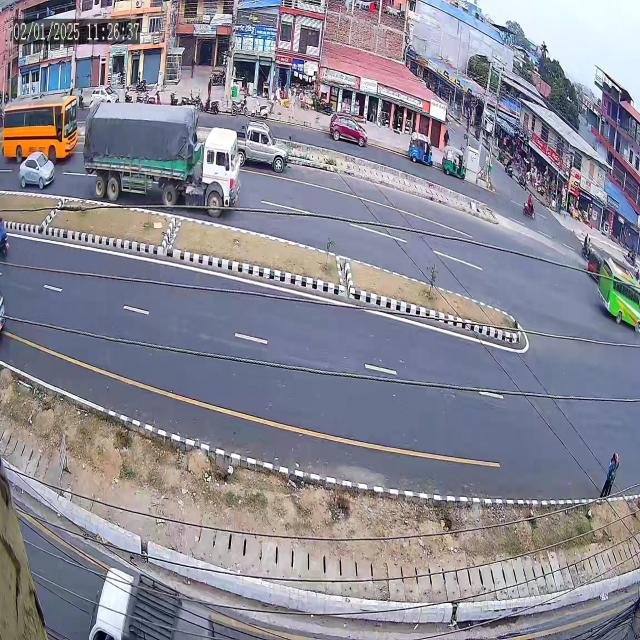bus: (0, 83, 79, 167), (599, 254, 640, 350)
car: (230, 119, 298, 174), (16, 147, 61, 193)
truck: (81, 90, 242, 240)
